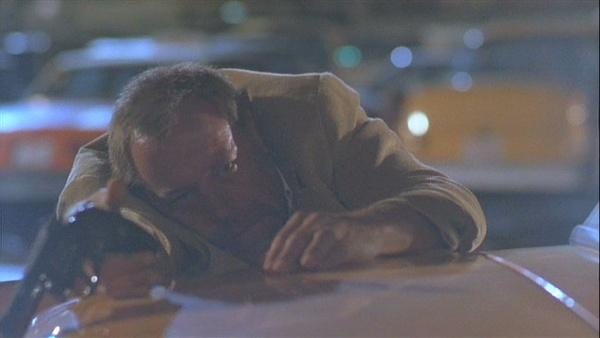Gun: (0, 206, 168, 338)
